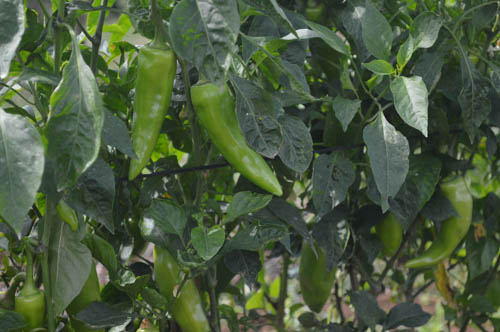ChiliPepper: (189, 85, 287, 194), (407, 180, 477, 275), (128, 49, 179, 178), (153, 248, 210, 325), (294, 236, 337, 310), (68, 273, 94, 328), (13, 293, 41, 322)
